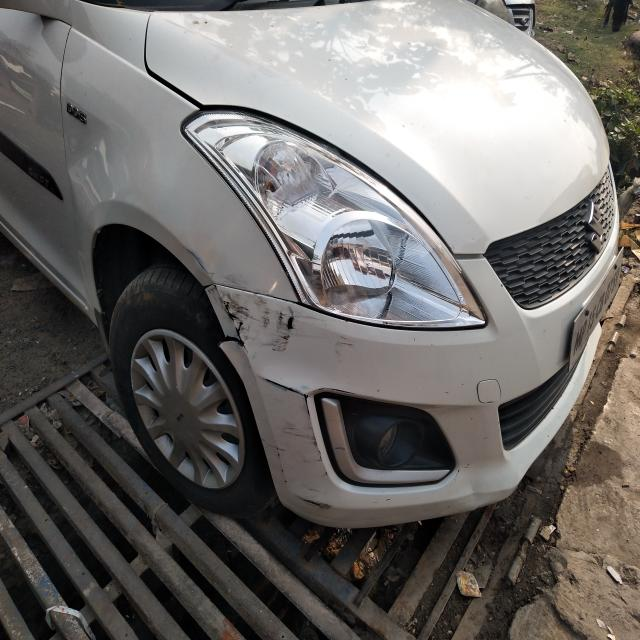damage: (259, 370, 336, 512), (204, 289, 302, 366), (69, 133, 118, 209), (181, 234, 214, 280), (461, 460, 492, 507), (329, 325, 364, 366)
